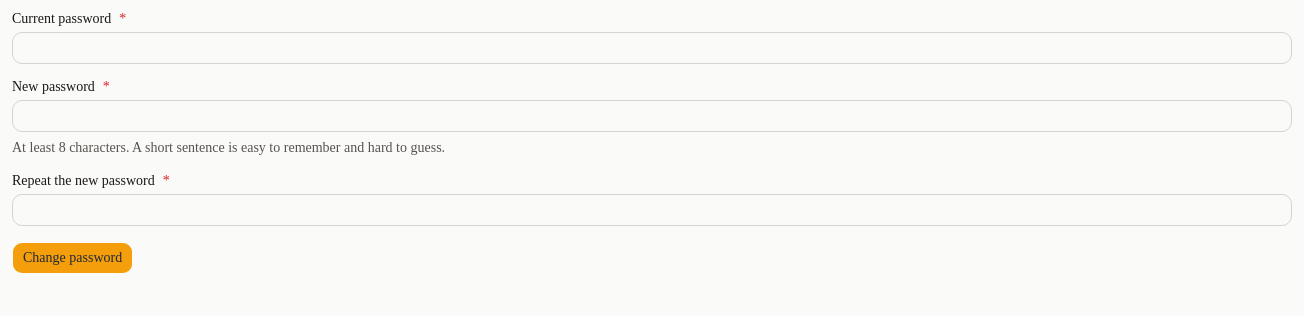
it: ChangePasswordForm › shows a wrong current password under that field
Type "wrong-password" into the password field labelled "Current password *". click: [652, 48]
box: [12,32,1292,64]
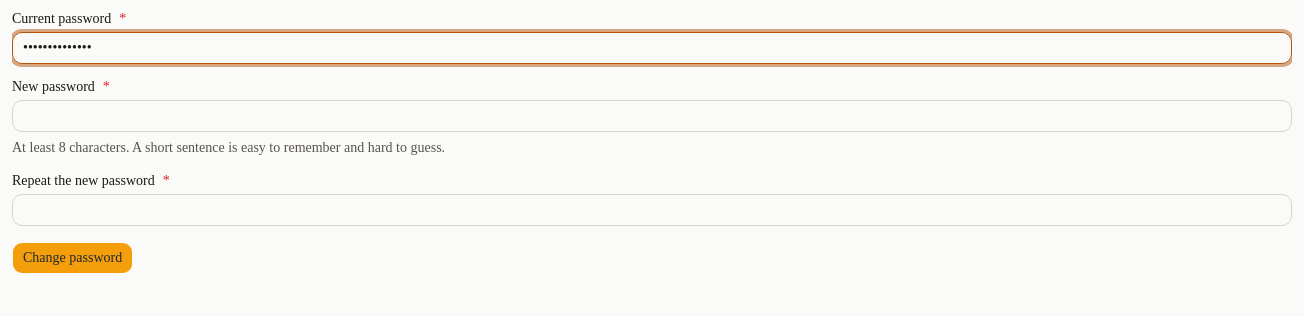
Type "a new reading list" into the password field labelled "New password *". click: [652, 116]
box: [12,100,1292,132]
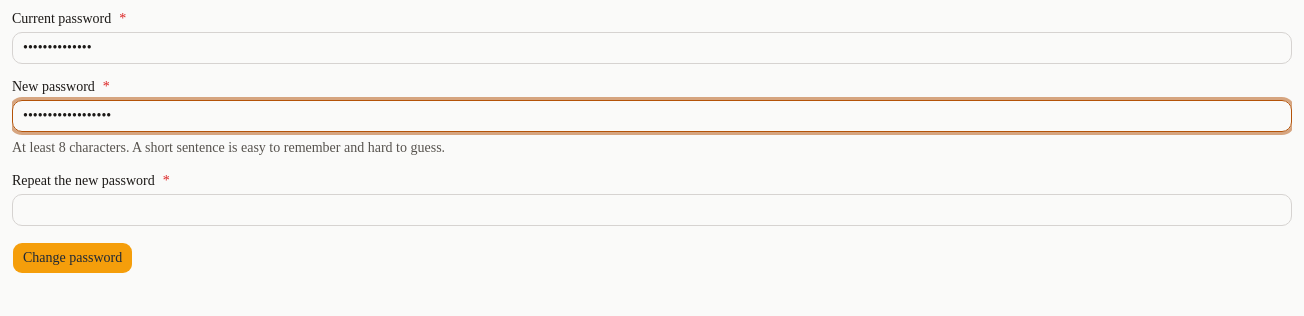
Type "a new reading list" into the password field labelled "Repeat the new password *". click: [652, 210]
box: [12,194,1292,226]
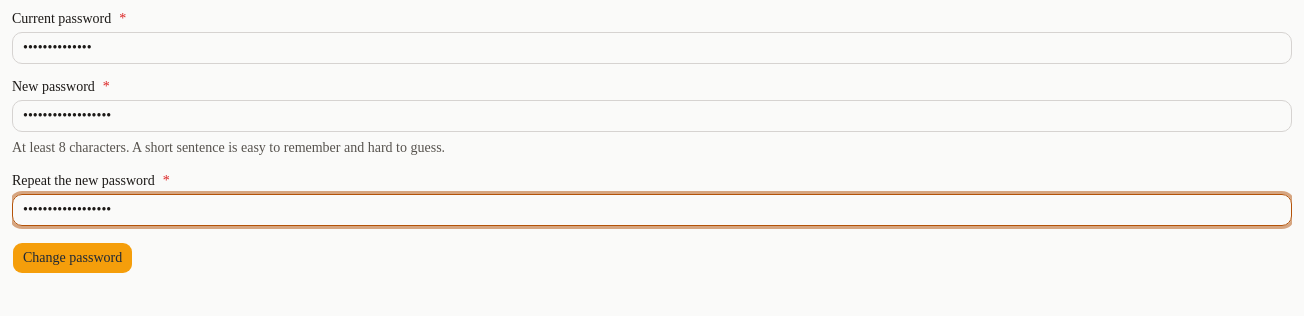
Click the button "Change password". click: [73, 258]
box: [12,242,133,274]
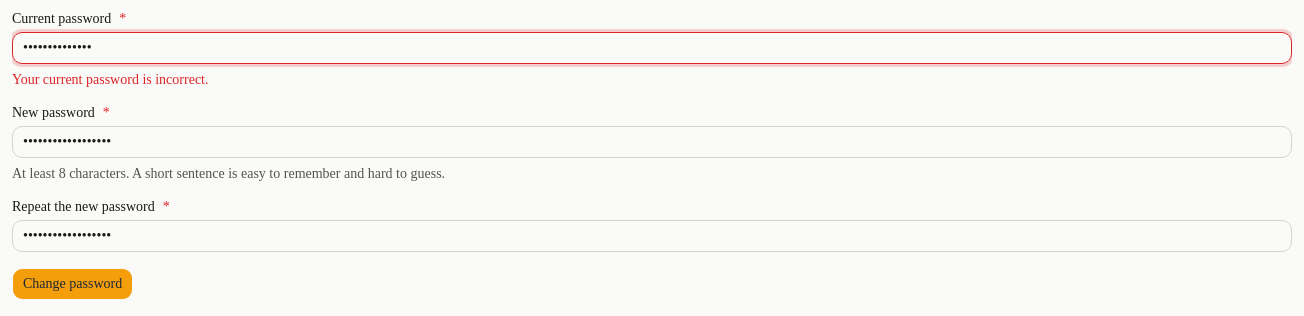
Now the text "Your current password is incorrect." is shown, box [12,72,208,87]
